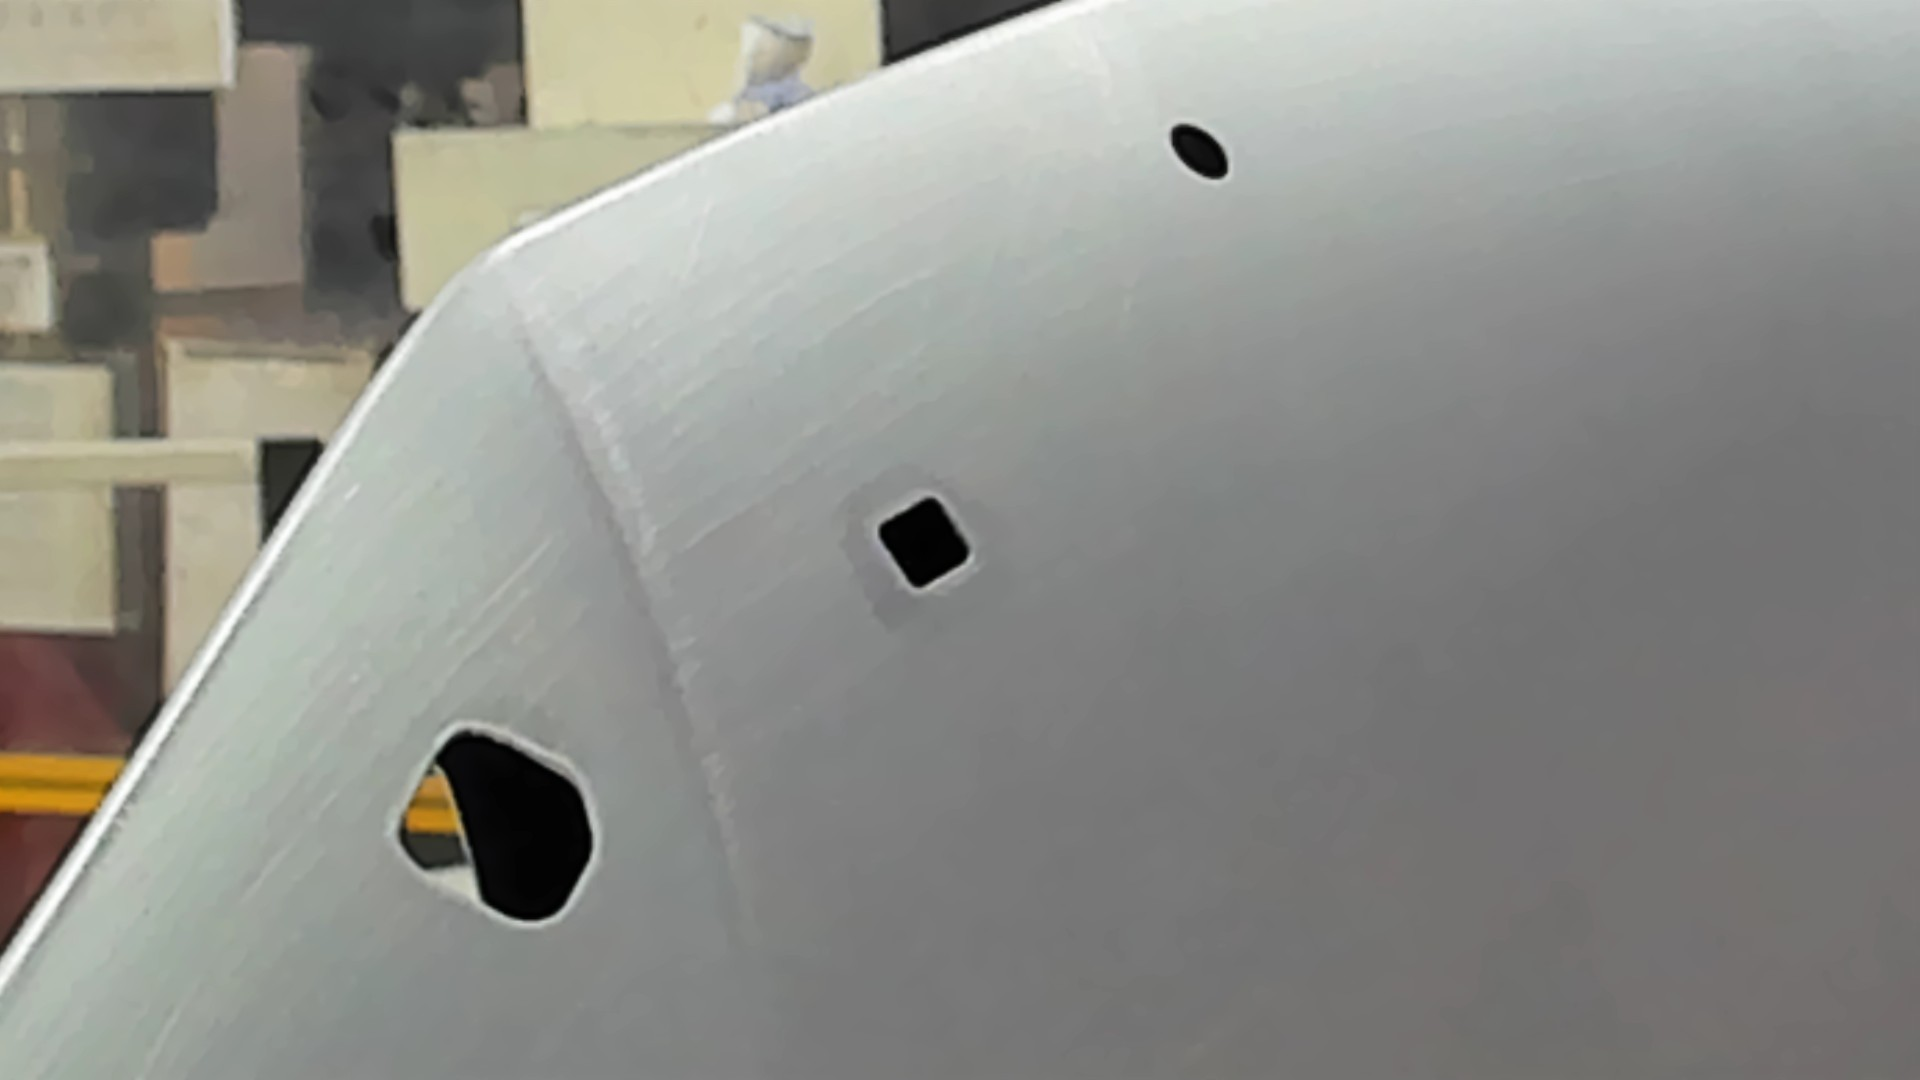chico: (1158, 112, 1237, 189)
grande: (382, 715, 616, 938)
mediano: (870, 492, 982, 603)
